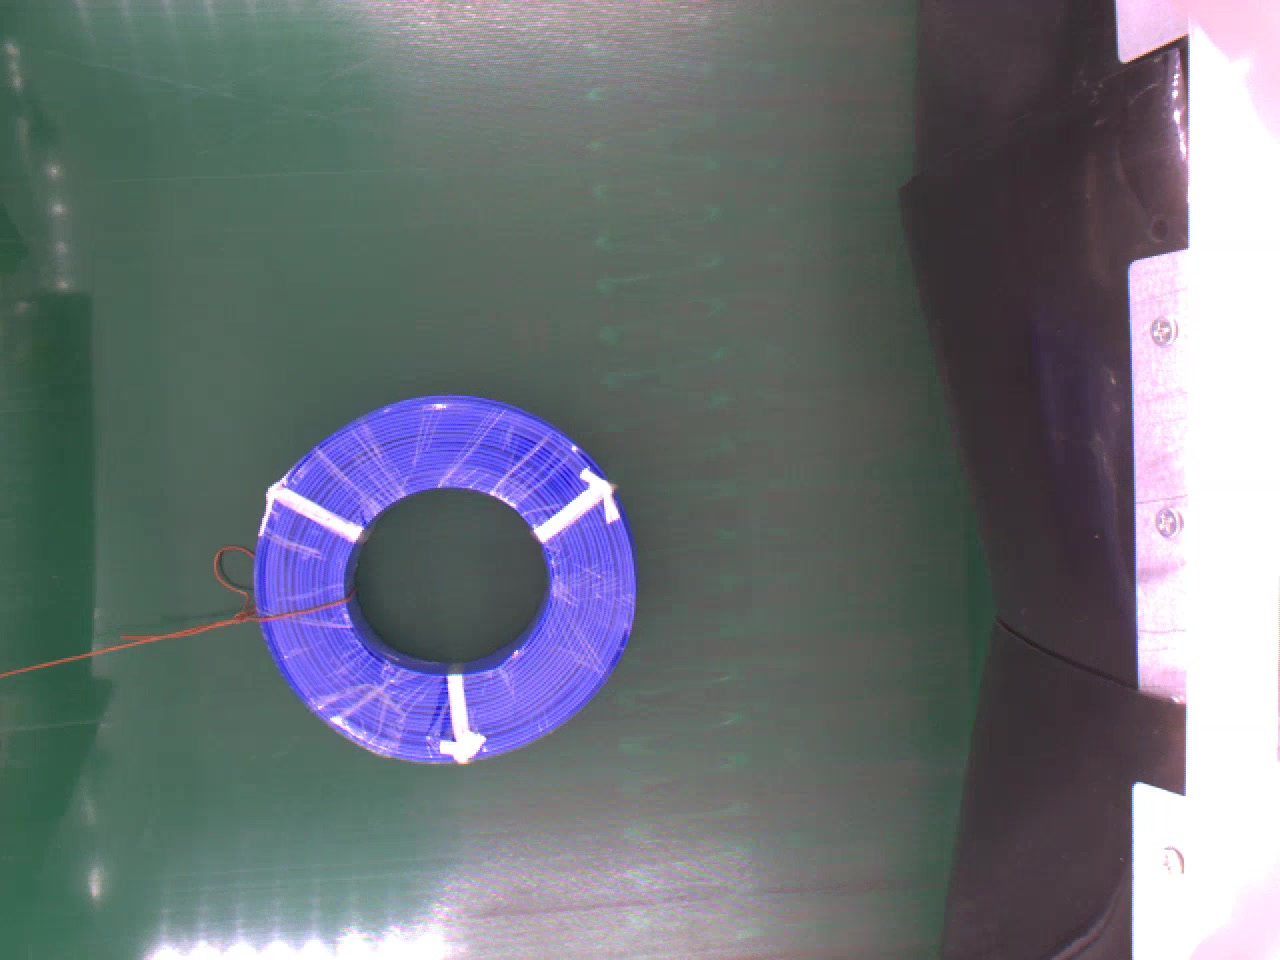blue: (253, 393, 638, 769)
